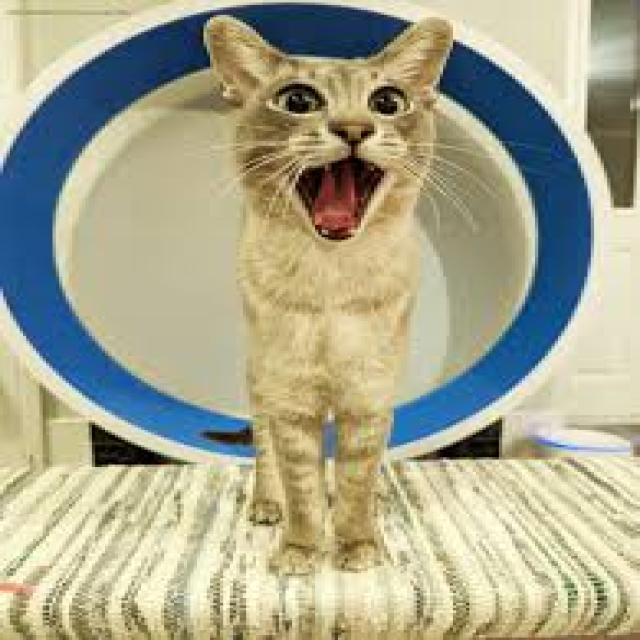cat: (194, 5, 470, 581)
